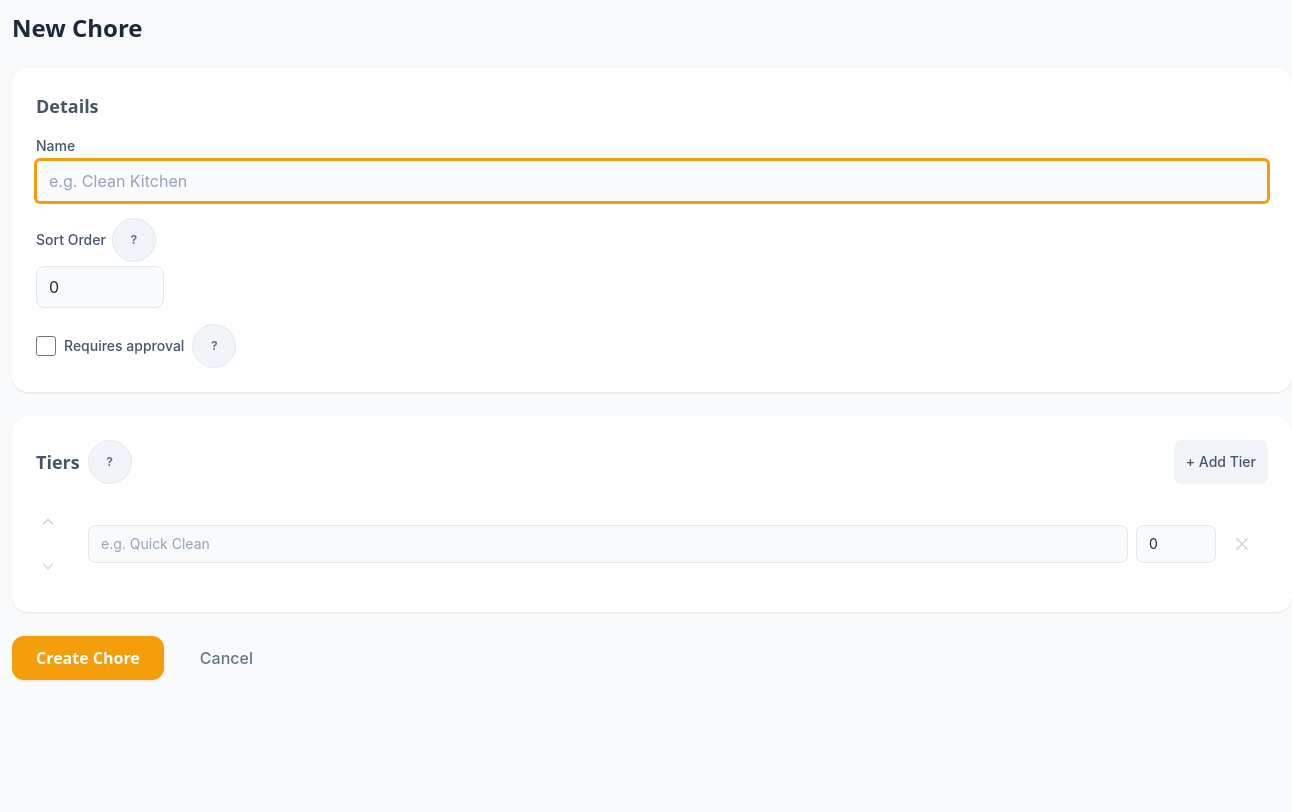
Scenario: AdminChoreForm › disables submit button during request
The width and height of the screenshot is (1292, 812).
Type "Test Chore" into the field labelled "Name".
click(652, 181); type("Test Chore")  # box [36,160,1268,202]
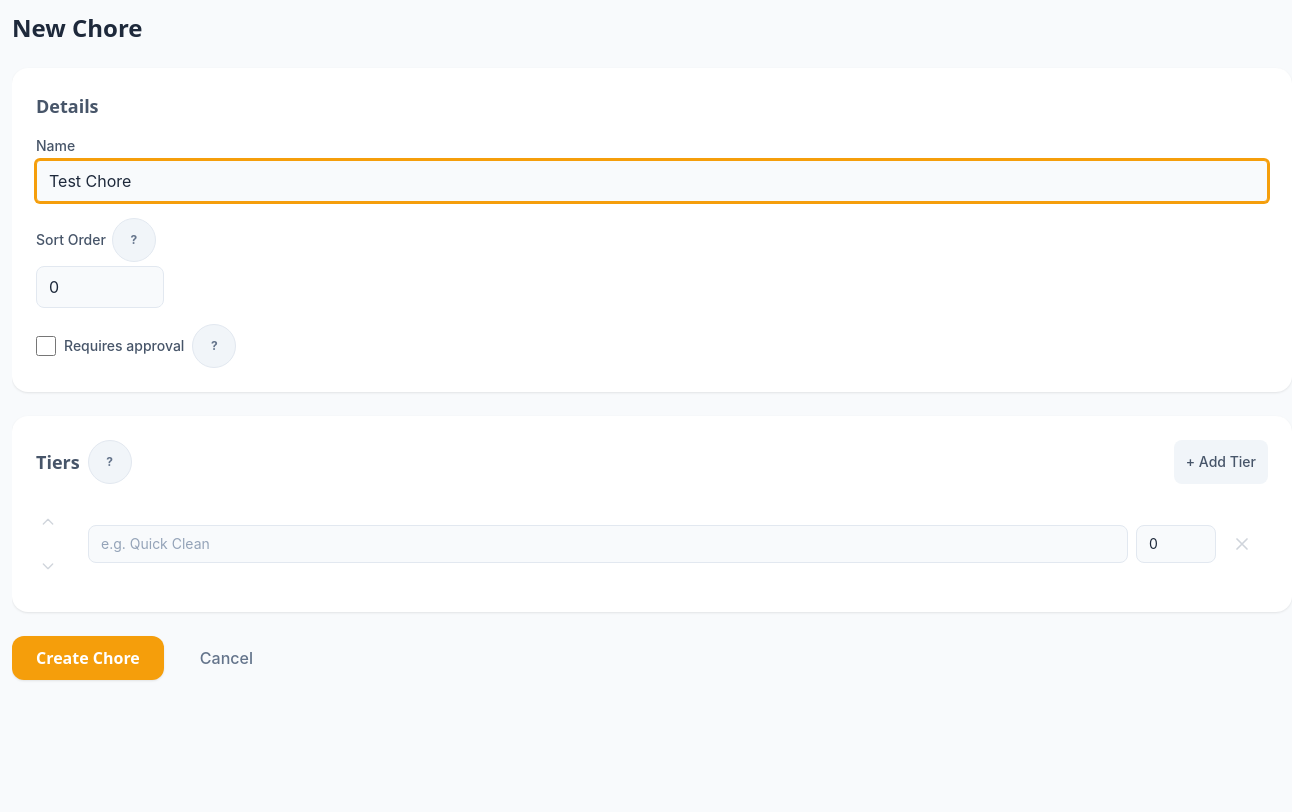
Type "Basic" into the field named "Tier 1 name".
click(608, 544); type("Basic")  # box [88,525,1128,563]
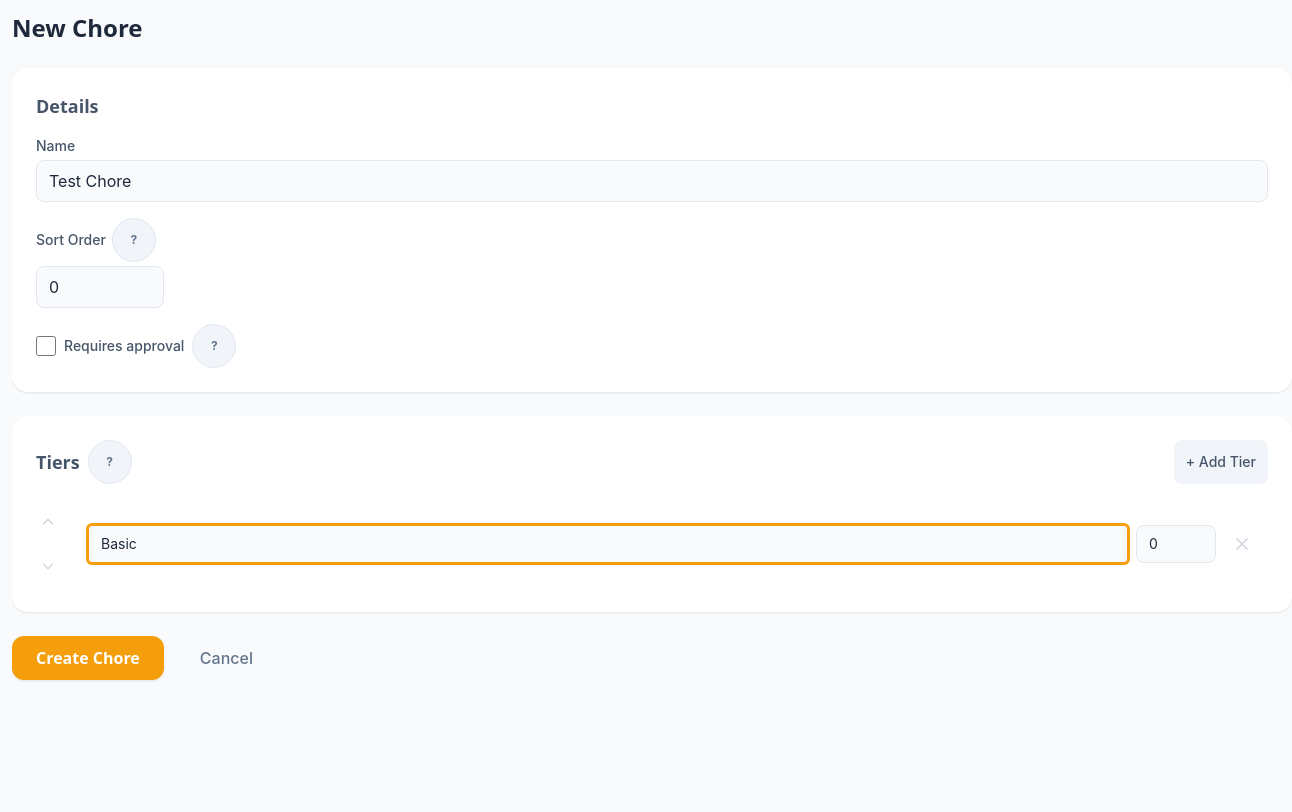
Click the button "Create Chore".
click(88, 658)  # box [12,636,164,680]
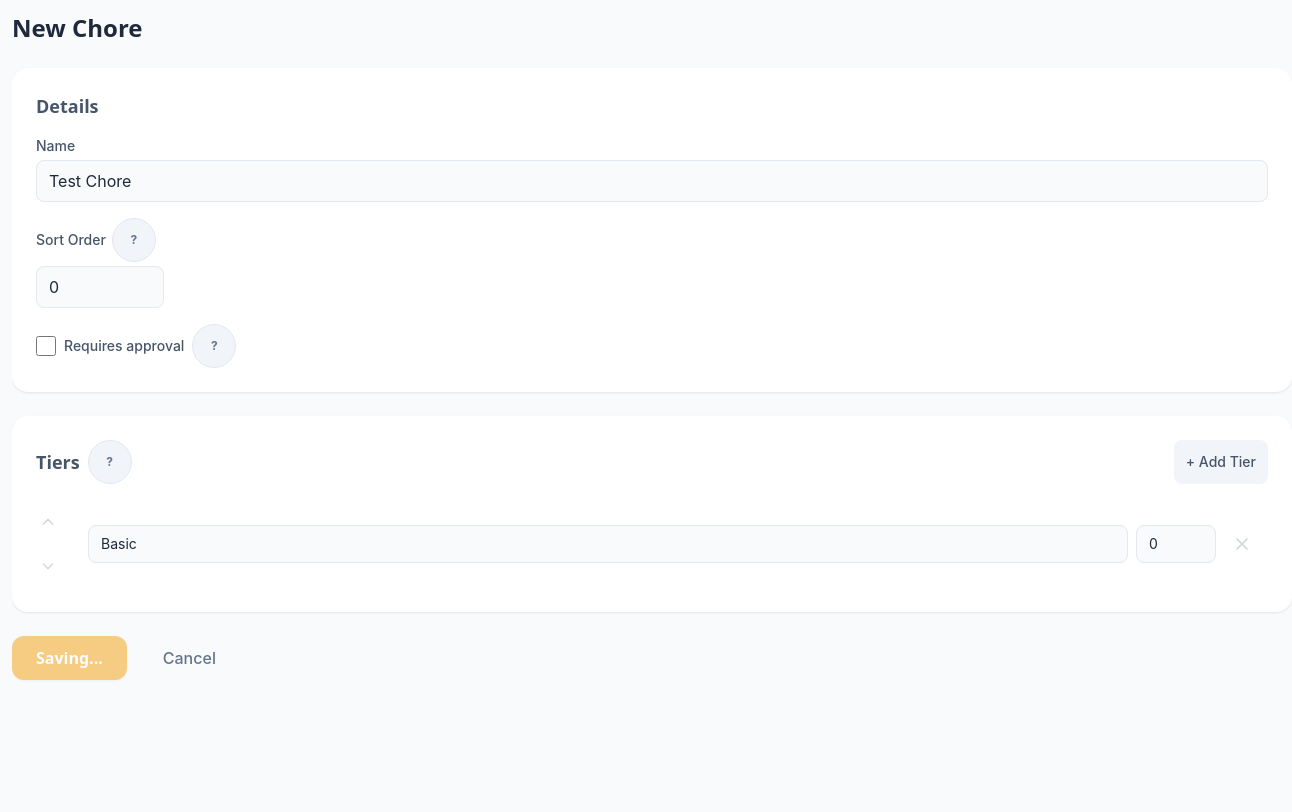
Expected: the button "Saving..." is disabled, [12,636,127,680]
